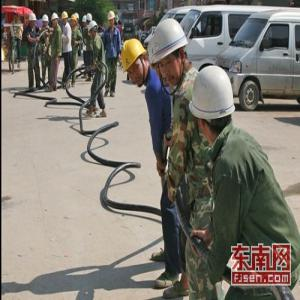white: (186, 63, 236, 142), (153, 19, 188, 88), (89, 21, 99, 40), (52, 14, 61, 27), (29, 14, 38, 27), (82, 15, 89, 28), (43, 15, 50, 28)
yellow: (122, 38, 147, 88), (108, 11, 116, 27), (71, 15, 78, 28), (63, 13, 70, 25)
